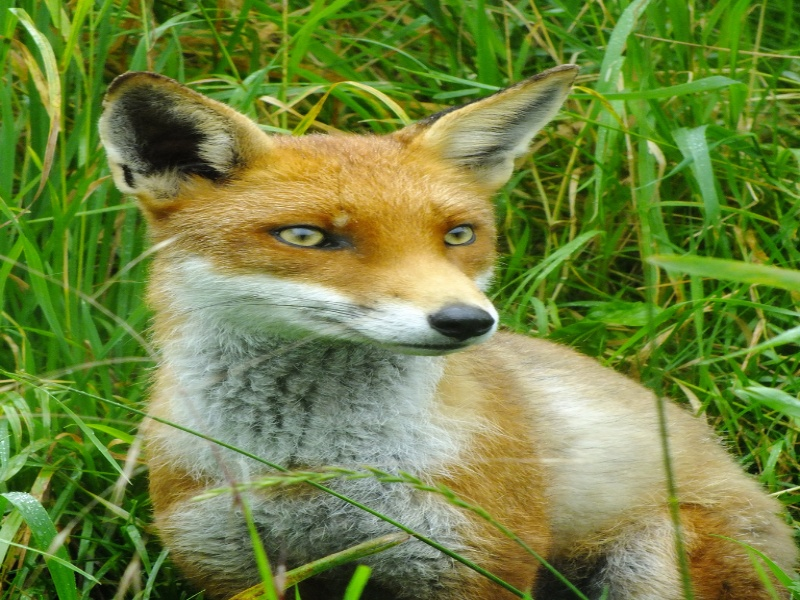fox: (103, 66, 794, 600)
